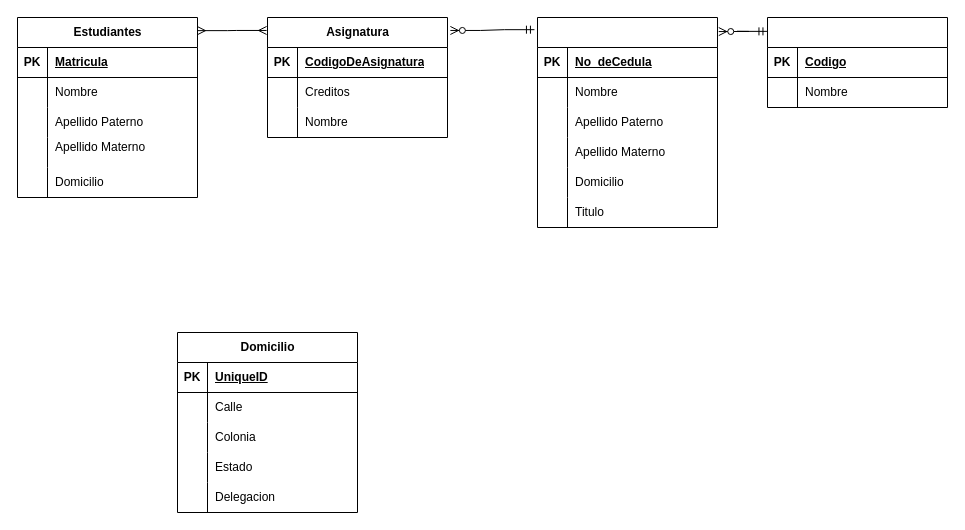
Some shapes in this 965 by 530 pixel diagram are drawn without their labels. Each missing label, with the box of its shape:
Docente: (536, 16, 718, 228)
Facultad: (766, 16, 948, 108)
